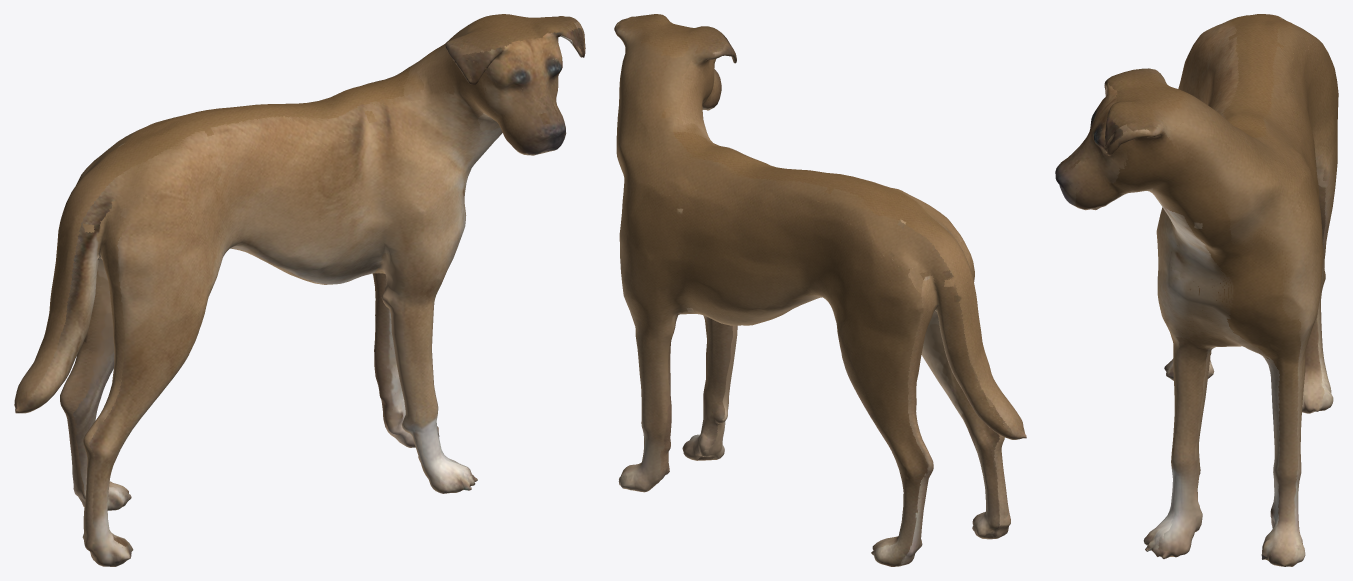
The model's file is perro_parado.glb.
The picture shows the model from 3 angles, left to right: view 1: azimuth 30°, elevation 25°; view 2: azimuth 150°, elevation 25°; view 3: azimuth 270°, elevation 25°; orthographic projection. The views are drawn at different scales.
Parts seen in each view (by area): view 1: temp_mesh.ply; view 2: temp_mesh.ply; view 3: temp_mesh.ply.
Part boxes in pixels (x1,y1,x2,y2): temp_mesh.ply: (14, 14, 585, 566); temp_mesh.ply: (614, 14, 1026, 566); temp_mesh.ply: (1055, 14, 1338, 566).
Bounding box in the file's own units: 1 × 0.8617 × 0.4559.
Materials: 1 (1 with a texture image).
